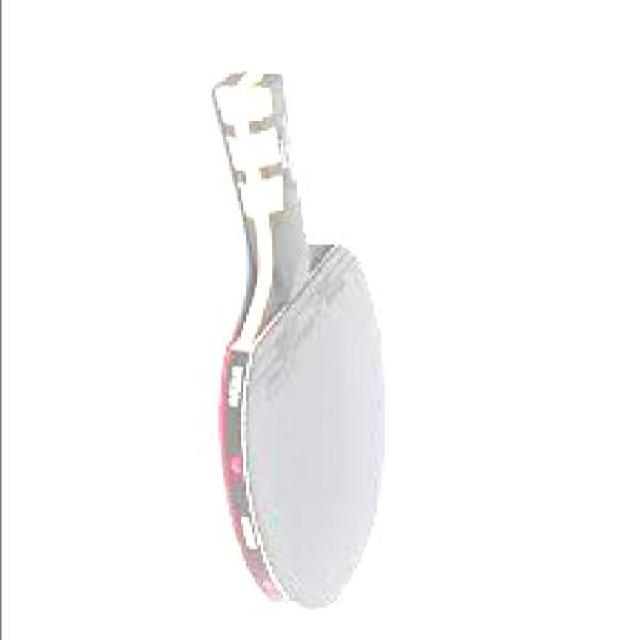table_tennis_racket: (212, 232, 394, 619)
